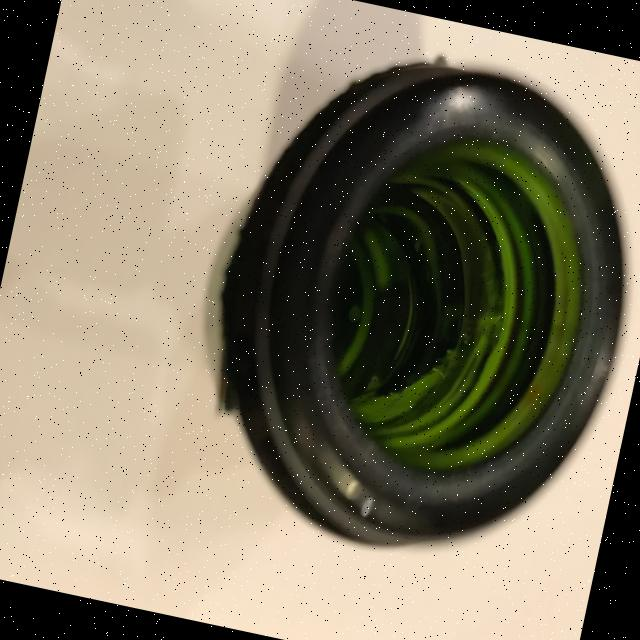glass: (170, 18, 640, 587)
